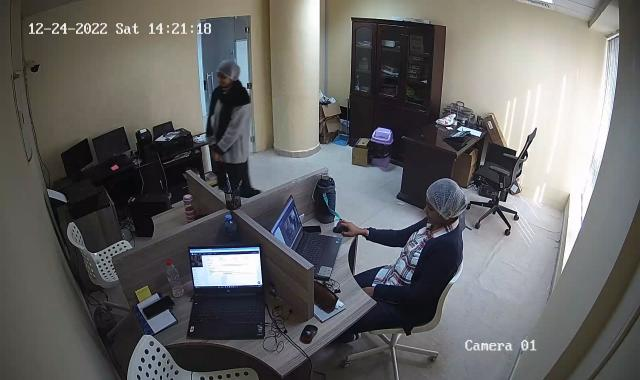hairnet: (423, 178, 466, 232), (214, 58, 240, 88)
